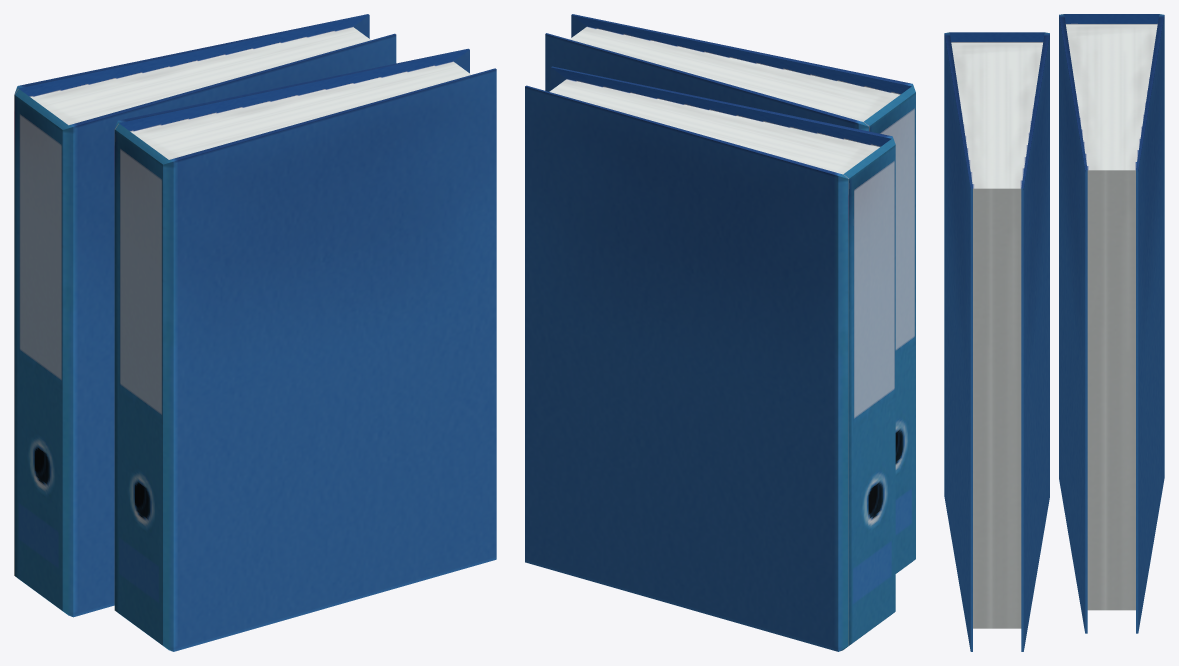
File: BianLiDian_01_wenjianjia_01.FBX
The picture shows the model from 3 angles, left to right: view 1: azimuth 30°, elevation 25°; view 2: azimuth 150°, elevation 25°; view 3: azimuth 270°, elevation 25°; orthographic projection. The views are drawn at different scales.
Visible parts, largest first — view 1: BianLiDian_01_wenjianjia_01; view 2: BianLiDian_01_wenjianjia_01; view 3: BianLiDian_01_wenjianjia_01.
Part boxes in pixels (bbox=[...]): BianLiDian_01_wenjianjia_01: bbox=[14, 14, 496, 651]; BianLiDian_01_wenjianjia_01: bbox=[525, 14, 915, 651]; BianLiDian_01_wenjianjia_01: bbox=[944, 14, 1164, 651].
Bounding box in the file's own units: 86.41 × 106 × 45.46.
